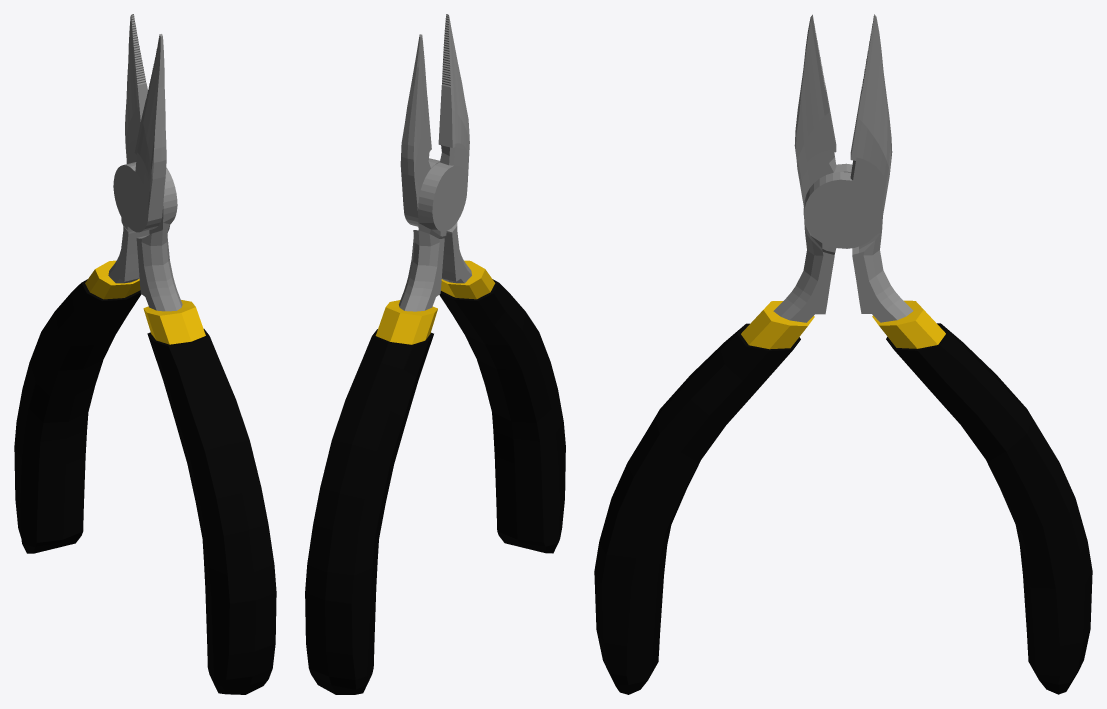
Rendered from Pliers.fbx.
3 renders of one model, left to right at view 1: azimuth 30°, elevation 25°; view 2: azimuth 150°, elevation 25°; view 3: azimuth 270°, elevation 25°, orthographic. The views are drawn at different scales.
Parts seen in each view (by area): view 1: Civers; view 2: Civers; view 3: Civers.
Part boxes in pixels (box(x1,y1,x2,y2)): Civers: box(14, 14, 276, 694); Civers: box(305, 14, 565, 694); Civers: box(594, 14, 1092, 694).
Bounding box in the file's own units: 10.83 × 106 × 71.23.
